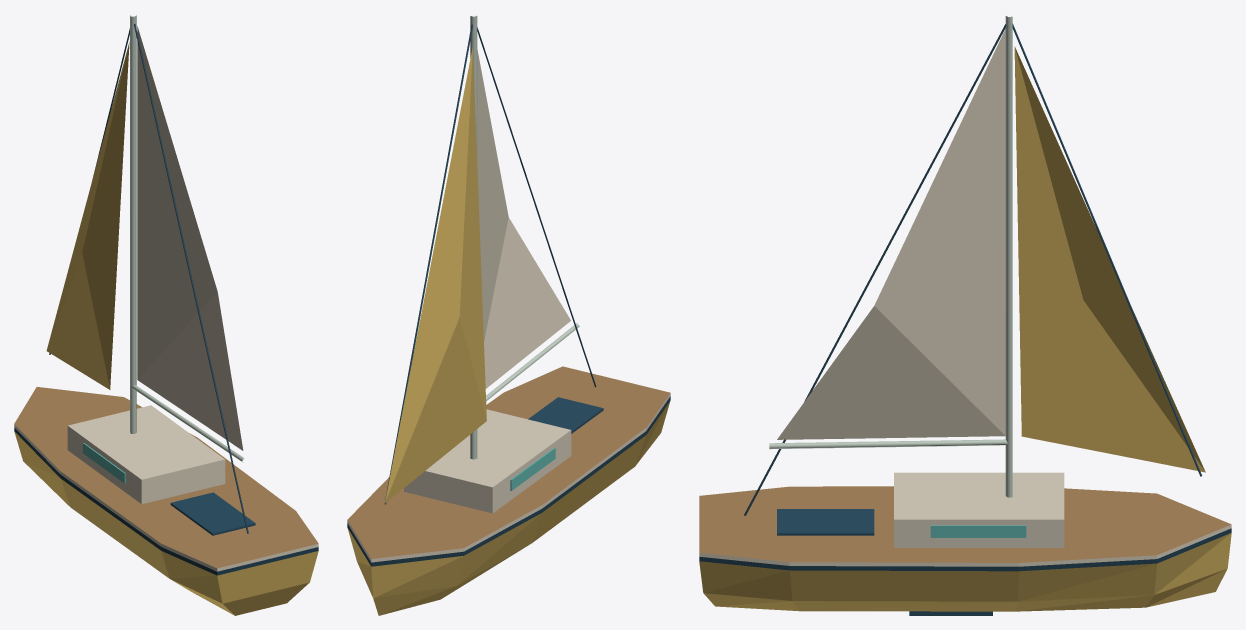
The model's file is sailboat.glb.
The picture shows the model from 3 angles, left to right: view 1: azimuth 30°, elevation 25°; view 2: azimuth 150°, elevation 25°; view 3: azimuth 270°, elevation 25°; orthographic projection. The views are drawn at different scales.
Parts seen in each view (by area): view 1: static_painted, static_metal, static_dark, static_glass; view 2: static_painted, static_dark, static_metal, static_glass; view 3: static_painted, static_dark, static_metal, static_glass.
Boxes of the visible parts, x1,y1,x2,y2 form: static_painted: [14, 26, 318, 615]; static_metal: [130, 15, 244, 462]; static_dark: [49, 24, 255, 535]; static_glass: [83, 443, 125, 483]; static_painted: [347, 46, 670, 615]; static_dark: [384, 24, 603, 504]; static_metal: [470, 16, 579, 459]; static_glass: [510, 447, 555, 490]; static_painted: [699, 29, 1231, 611]; static_dark: [744, 23, 1202, 615]; static_metal: [769, 16, 1012, 497]; static_glass: [930, 525, 1026, 537].
Size of the model in its own units: 2.4 by 8.69 by 7.
